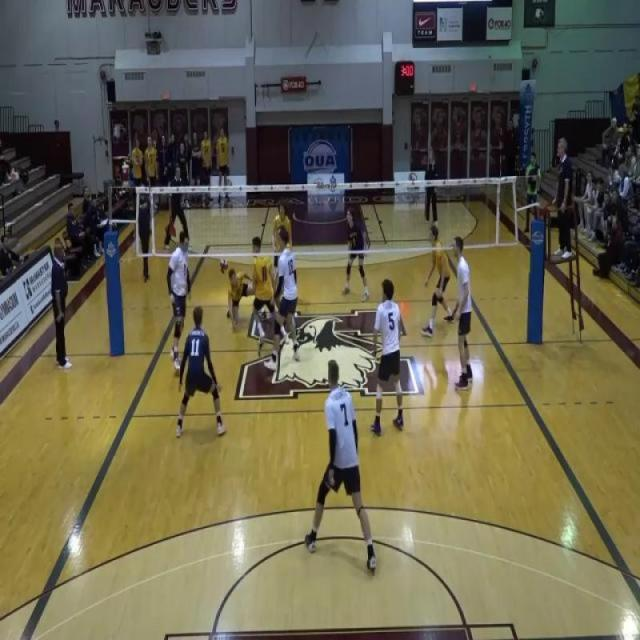volleyball: (219, 258, 229, 275)
